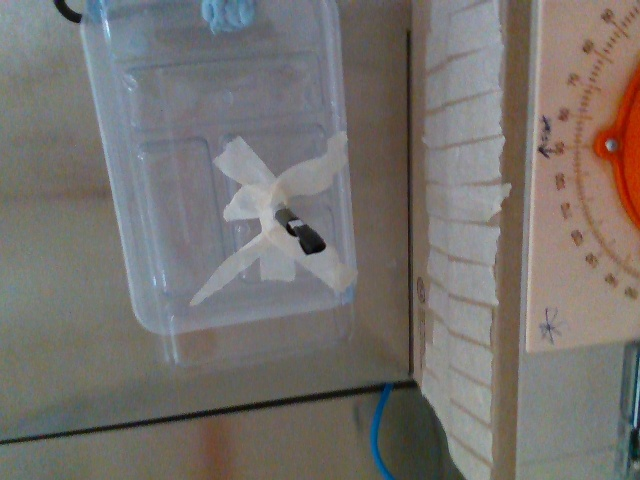test_strip: (285, 218, 324, 254)
